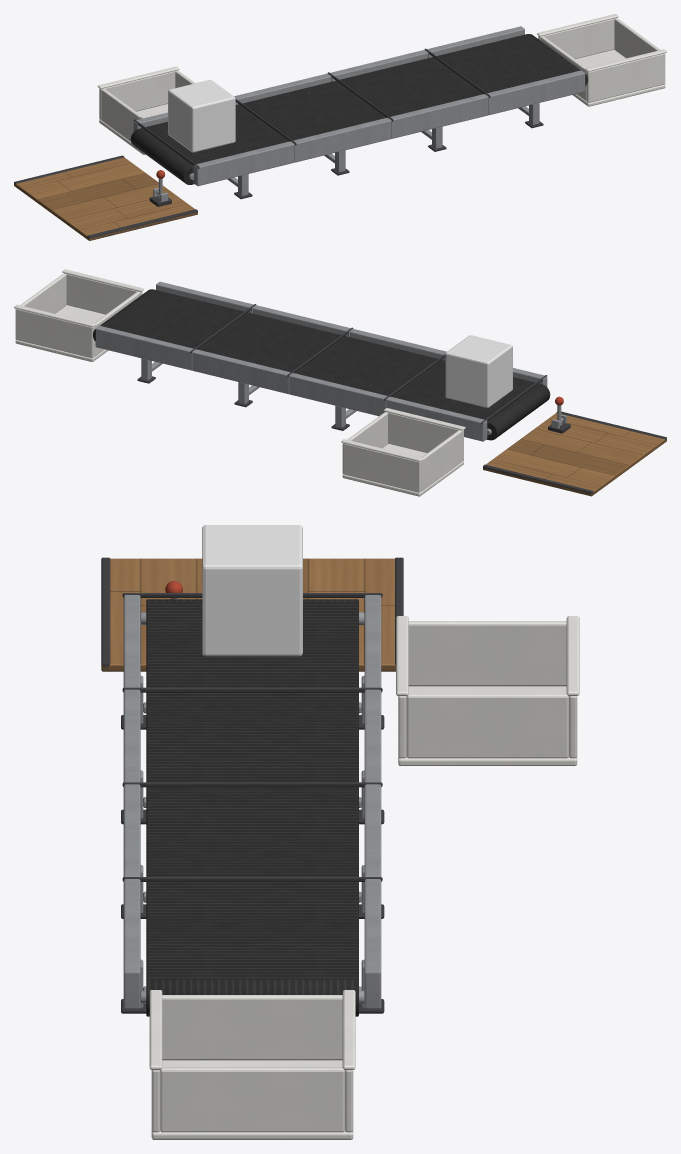
File: station_sorter.fbx
3 renders of one model, top to bottom at view 1: azimuth 30°, elevation 25°; view 2: azimuth 150°, elevation 25°; view 3: azimuth 270°, elevation 25°, orthographic. The views are drawn at different scales.
Parts seen in each view (by area): view 1: 벨트, 작업대, 통_B, 상자_밝음, 통_A; view 2: 벨트, 작업대, 통_A, 통_B, 상자_밝음; view 3: 벨트, 통_B, 통_A, 상자_밝음, 작업대.
Part boxes in pixels (left/top/right/bottom): 벨트: left=130, top=26, right=587, bottom=199; 작업대: left=14, top=155, right=197, bottom=240; 통_B: left=537, top=14, right=666, bottom=106; 상자_밝음: left=168, top=79, right=235, bottom=152; 통_A: left=97, top=66, right=195, bottom=154; 벨트: left=93, top=281, right=550, bottom=441; 작업대: left=483, top=411, right=666, bottom=496; 통_A: left=341, top=408, right=465, bottom=496; 통_B: left=14, top=269, right=143, bottom=361; 상자_밝음: left=445, top=335, right=512, bottom=407; 벨트: left=121, top=593, right=384, bottom=1016; 통_B: left=149, top=990, right=355, bottom=1139; 통_A: left=396, top=616, right=579, bottom=765; 상자_밝음: left=202, top=525, right=302, bottom=656; 작업대: left=101, top=557, right=403, bottom=671.
Bounding box in the file's own units: 24340 × 3300 × 8540.
Materials: 8 (4 with a texture image).
